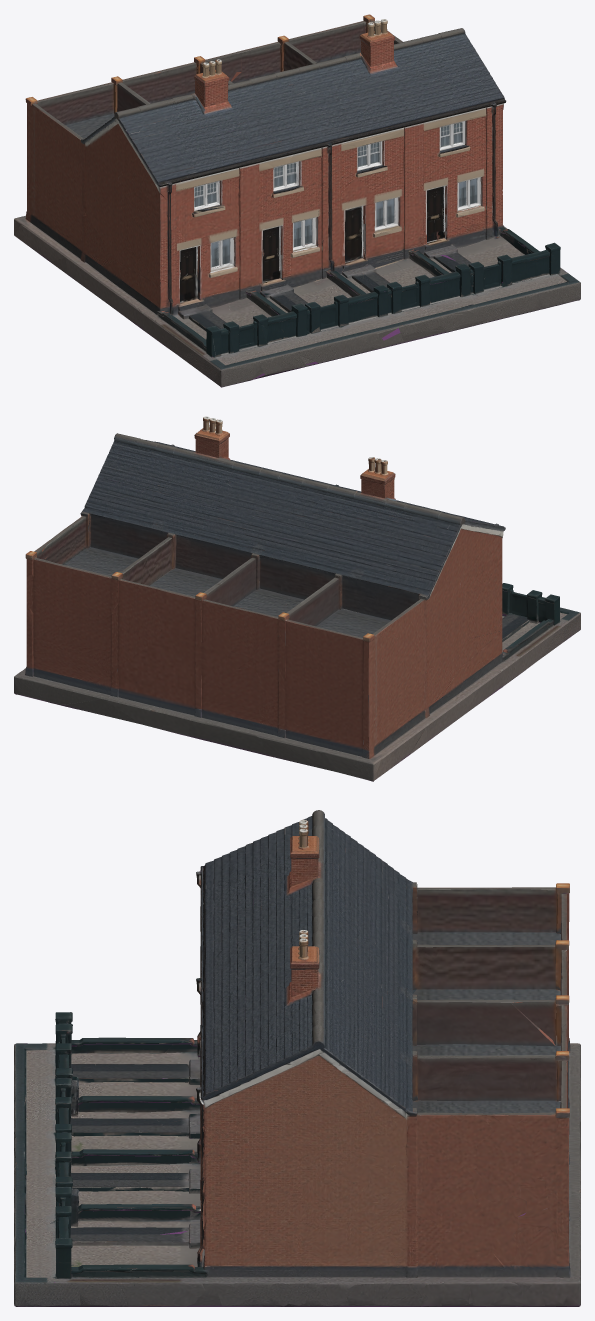
Rendered from building_postwar_terrace.glb.
3 views of the same model, one above another, from view 1: azimuth 30°, elevation 25°; view 2: azimuth 150°, elevation 25°; view 3: azimuth 270°, elevation 25° (orthographic). The views are drawn at different scales.
Visible parts, largest first — view 1: output_unwrapped; view 2: output_unwrapped; view 3: output_unwrapped.
Boxes of the visible parts, x1,y1,x2,y2 form: output_unwrapped: [14, 14, 580, 387]; output_unwrapped: [14, 416, 580, 781]; output_unwrapped: [14, 810, 580, 1306].
Bounding box in the file's own units: 2 × 1.19 × 2.
1 material, 1 textured.
